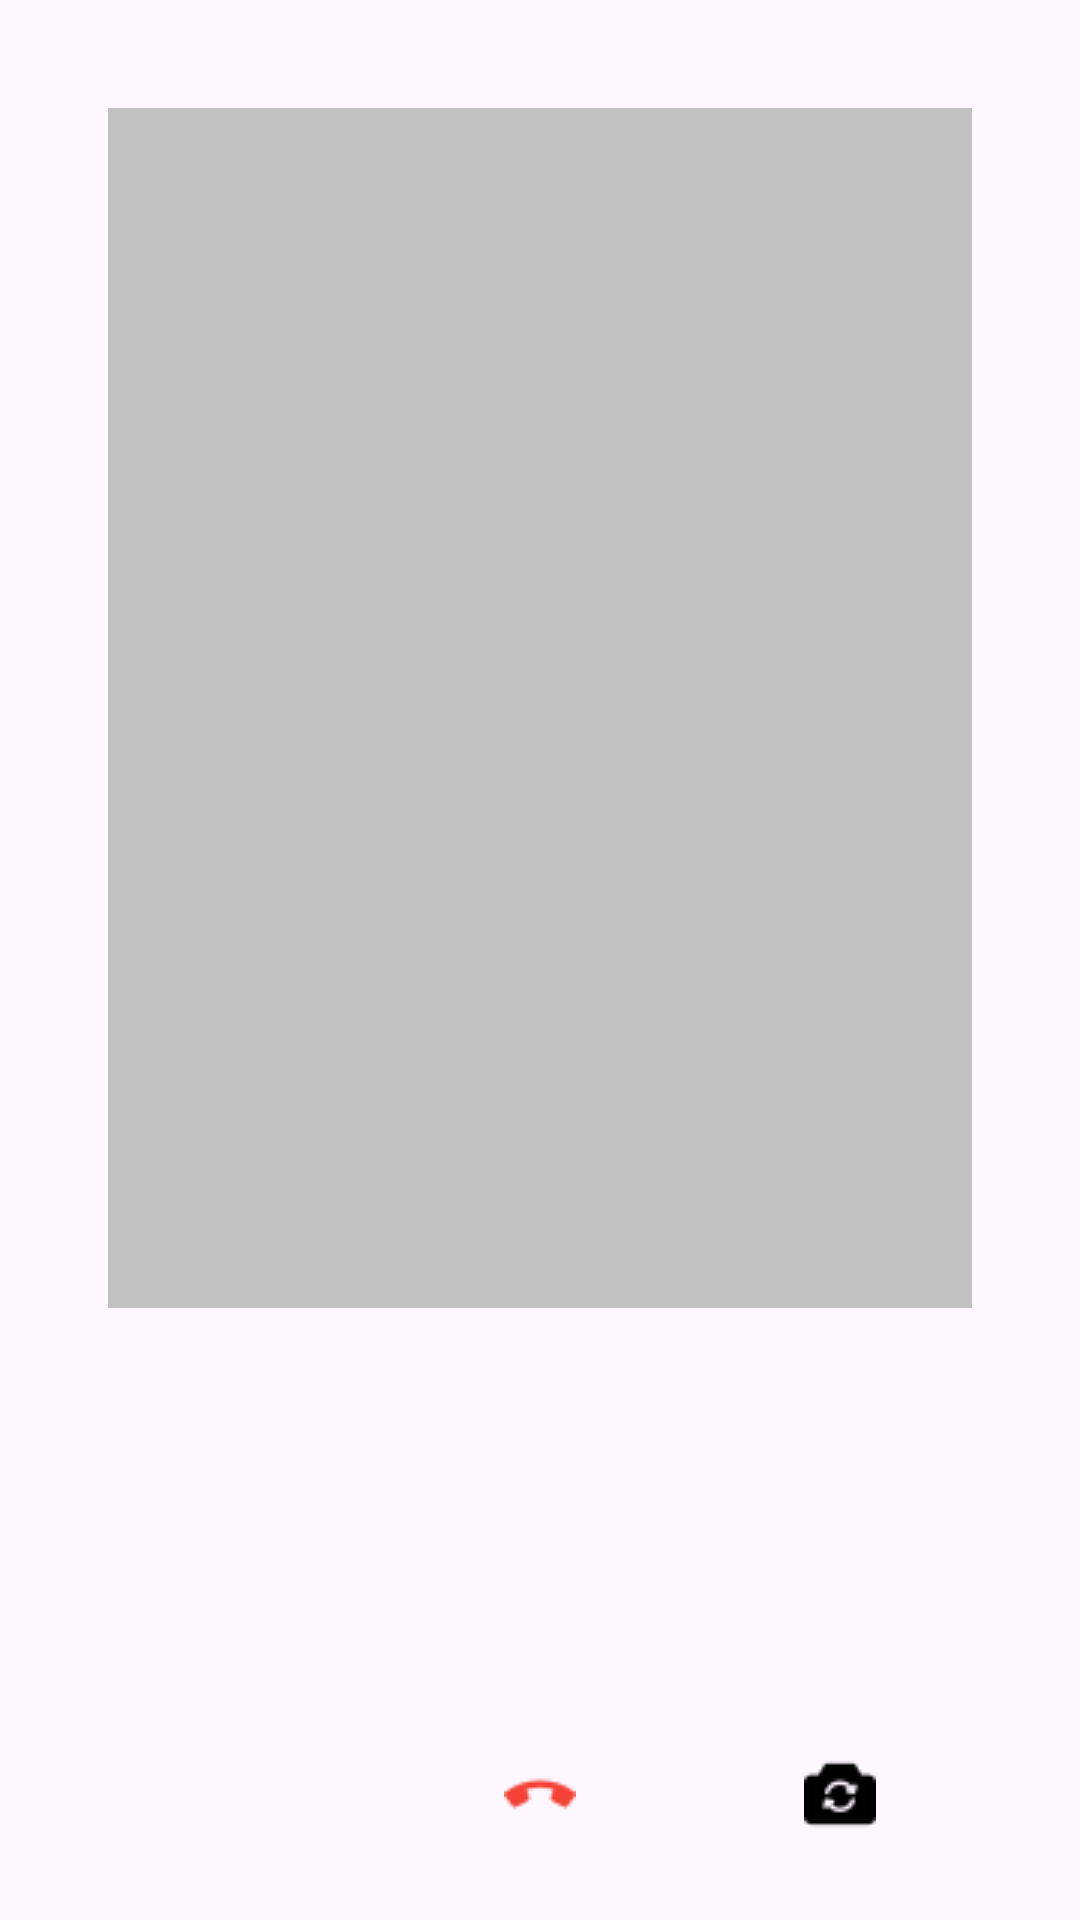

Icons on this 1080*1920 Android screen, each with the point to tap as (x,y):
end call: (540,1794)
switch camera: (840,1794)
